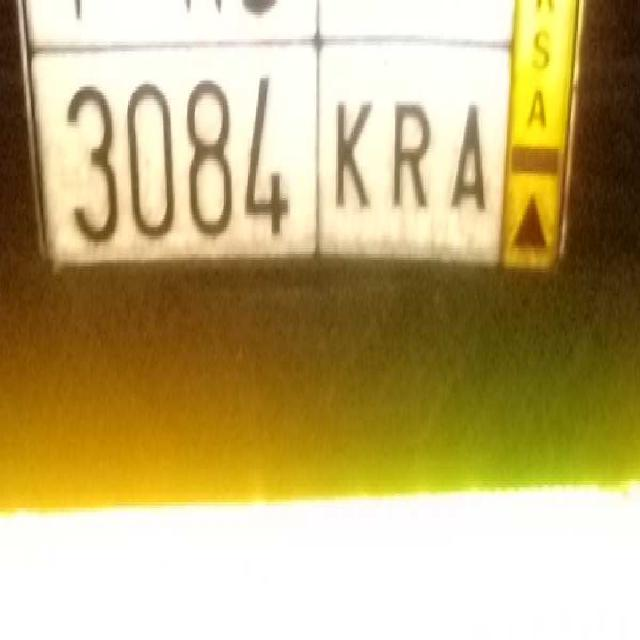license_plate: (60, 46, 496, 266)
